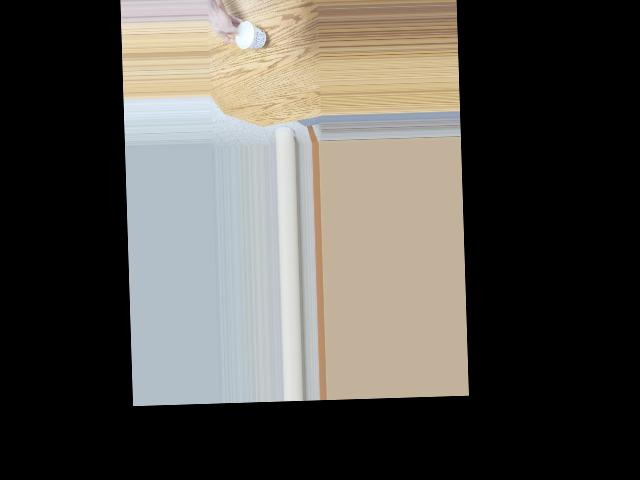cotage: (235, 26, 269, 49)
